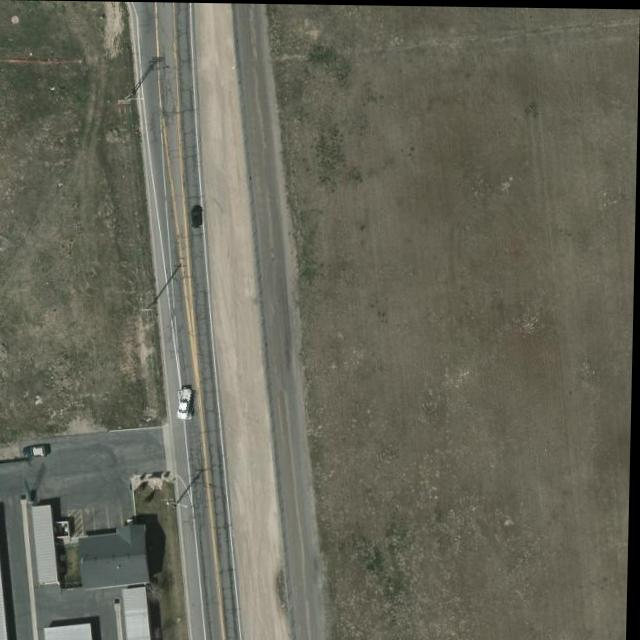vehicle: (178, 387, 199, 421), (24, 445, 49, 457), (191, 206, 205, 227)
